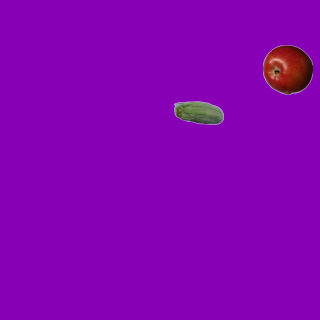Apple Braeburn: (262, 44, 312, 94)
Corn Husk: (173, 89, 223, 139)
